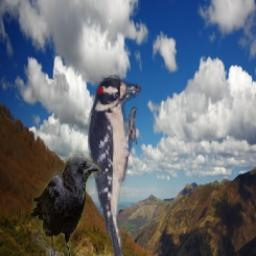Crow: (30, 155, 100, 256)
Woodpecker: (87, 72, 141, 256)
